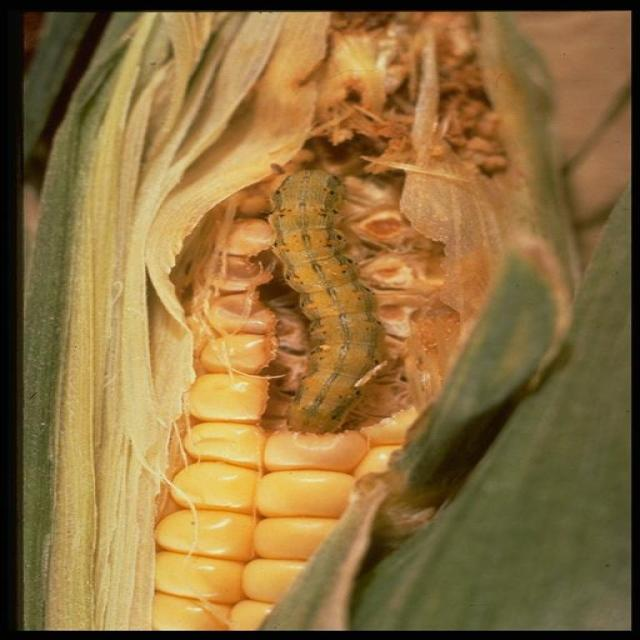Corn-earworm: (275, 159, 390, 443)
